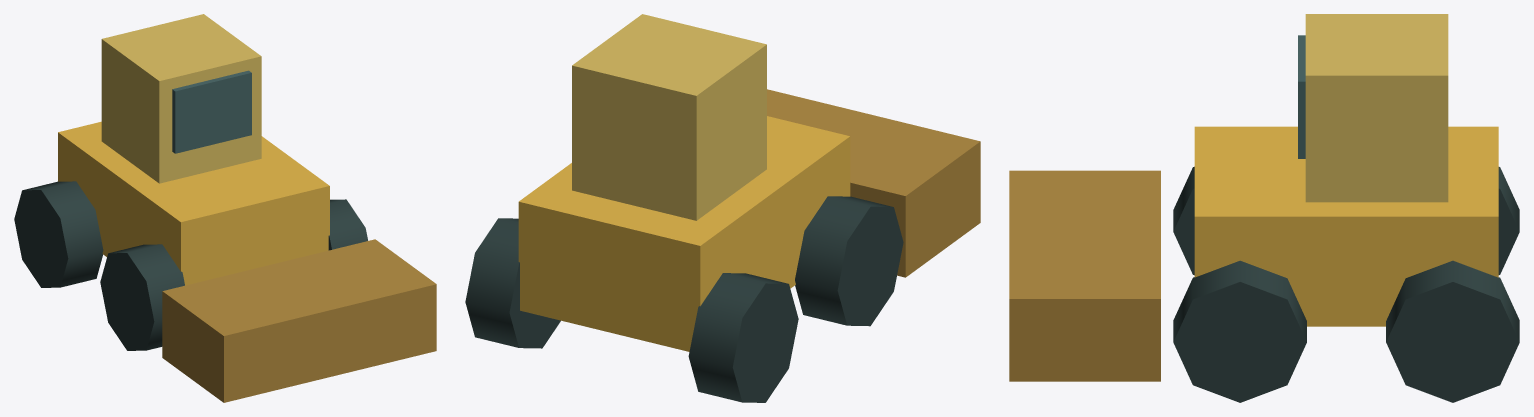
File: loader.glb
3 views of the same model, side by side, from view 1: azimuth 30°, elevation 25°; view 2: azimuth 150°, elevation 25°; view 3: azimuth 270°, elevation 25° (orthographic). The views are drawn at different scales.
Visible parts, largest first — view 1: loader; view 2: loader; view 3: loader.
Part boxes in pixels (x1,y1,x2,y2): loader: (14,14,436,402); loader: (465,14,980,402); loader: (1009,14,1519,402).
Bounding box in the file's own units: 1.03 × 1.06 × 1.68.
